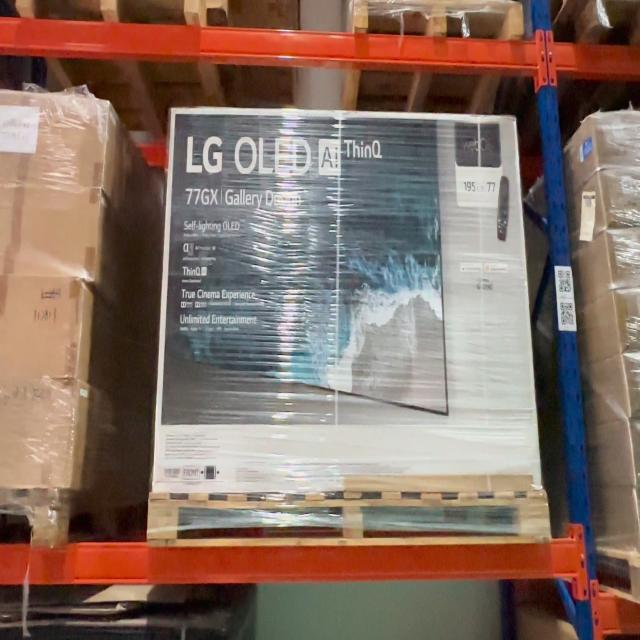box: (172, 116, 518, 491), (596, 114, 640, 165), (607, 168, 640, 228)
